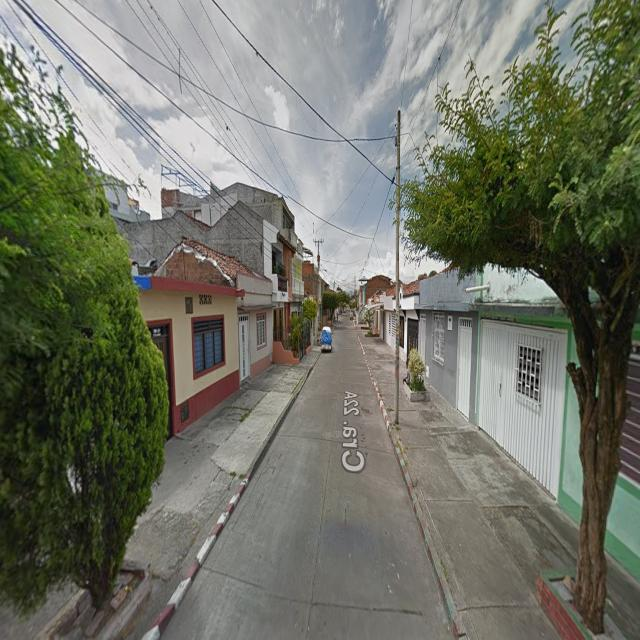Fachada: (467, 253, 640, 578), (136, 238, 244, 435), (210, 183, 304, 347), (418, 269, 480, 421), (237, 269, 273, 382), (380, 280, 419, 358)
Poste: (395, 109, 401, 425)
